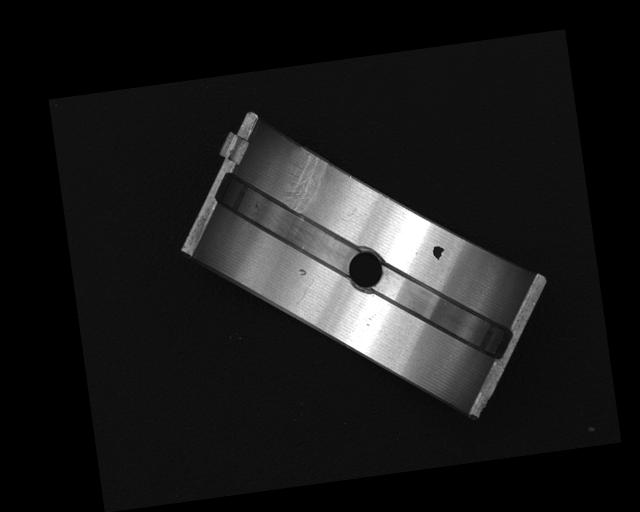blot: (431, 243, 446, 260)
bruise: (297, 267, 307, 276)
gap: (213, 157, 360, 286), (371, 252, 515, 374)
hole: (345, 248, 385, 293)
scratch: (276, 144, 334, 220)
